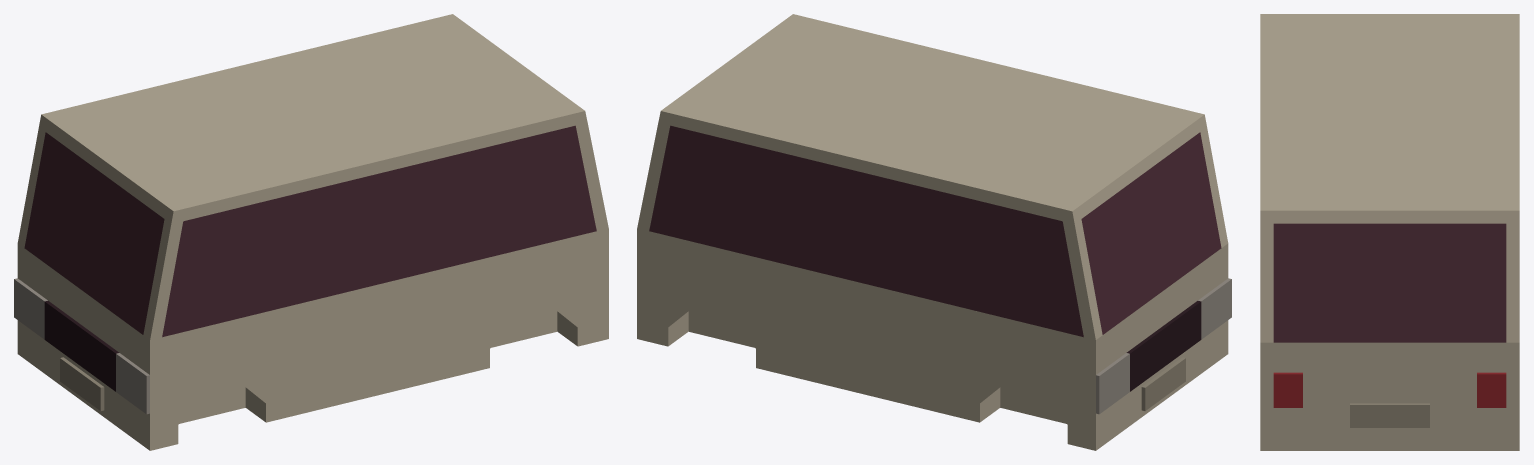
File: MiniVan_White.fbx
3 renders of one model, left to right at view 1: azimuth 30°, elevation 25°; view 2: azimuth 150°, elevation 25°; view 3: azimuth 270°, elevation 25°, orthographic. The views are drawn at different scales.
Visible parts, largest first — view 1: MiniVan_White, MiniVan_Lights; view 2: MiniVan_White, MiniVan_Lights; view 3: MiniVan_White, MiniVan_Lights.
Boxes of the visible parts, bbox=[...] form: MiniVan_White: bbox=[17, 14, 608, 450]; MiniVan_Lights: bbox=[14, 278, 149, 414]; MiniVan_White: bbox=[637, 14, 1228, 450]; MiniVan_Lights: bbox=[1096, 278, 1231, 414]; MiniVan_White: bbox=[1260, 14, 1519, 450]; MiniVan_Lights: bbox=[1273, 372, 1506, 407].
Size of the model in its own units: 3.96 by 1.9 by 1.95.
